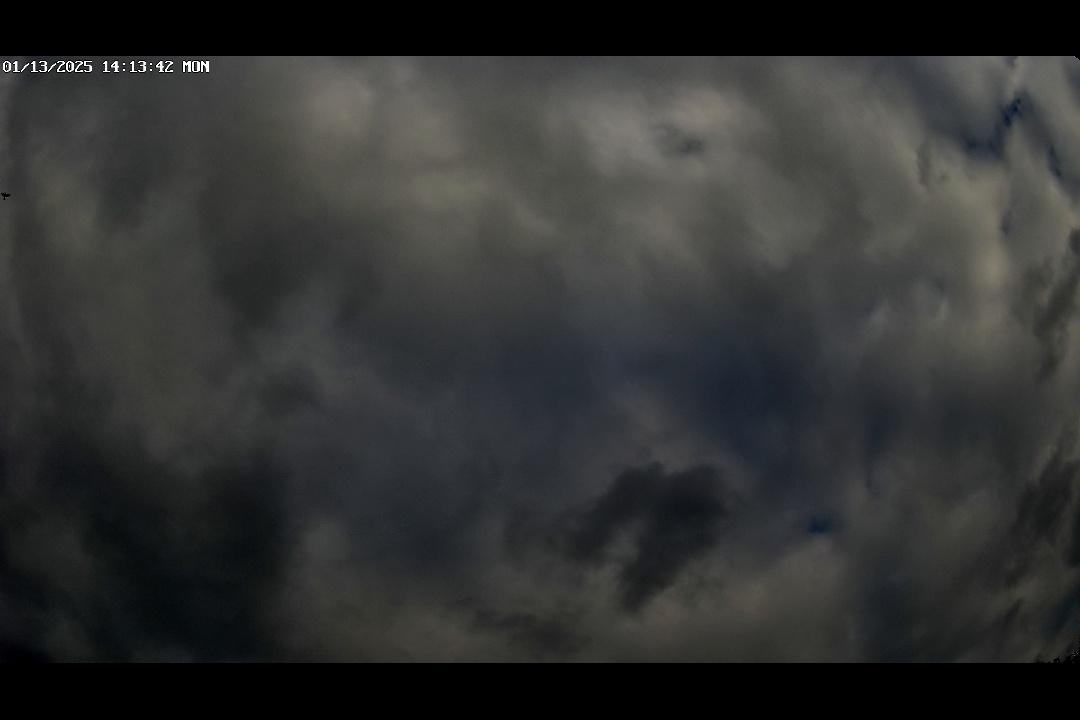WildLife: (0, 189, 21, 208)
